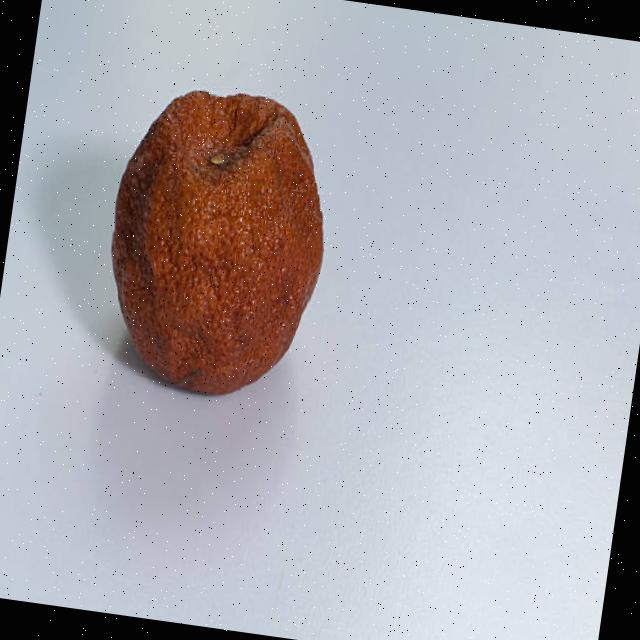overripe: (86, 78, 345, 415)
